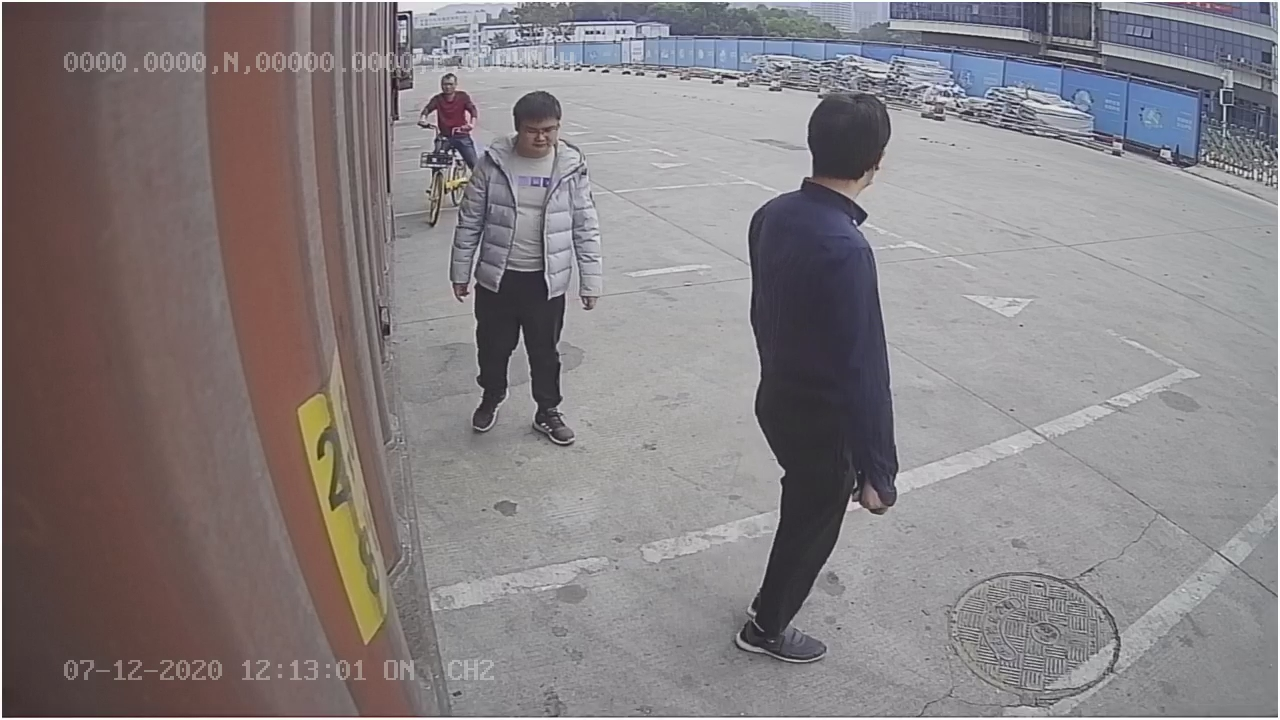person: (727, 79, 897, 671)
